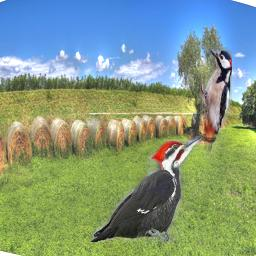Woodpecker: (90, 136, 202, 242), (200, 47, 232, 177)
